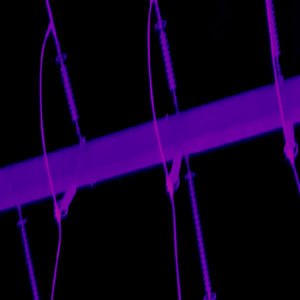insulator: (185, 170, 215, 299), (17, 217, 38, 300), (157, 25, 177, 90), (60, 60, 79, 120), (264, 0, 280, 57), (59, 180, 77, 211), (166, 150, 181, 186)
